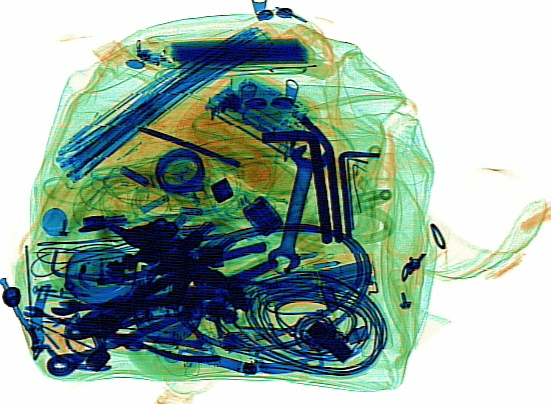powerbank: (247, 251, 377, 305)
